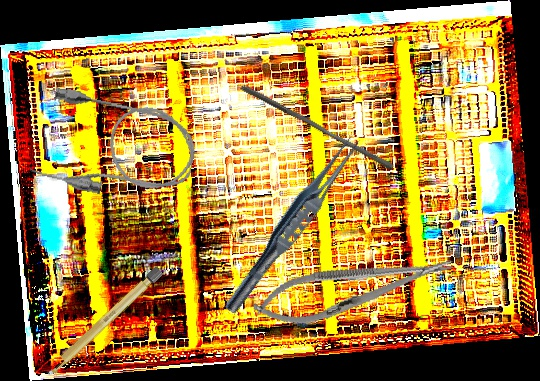Cannula: (28, 84, 202, 211)
Needle Holder: (248, 241, 459, 336)
Pusher: (236, 83, 398, 172)
Scalpel Handle: (43, 265, 164, 379)
Tissue Forceps: (219, 128, 367, 321)
